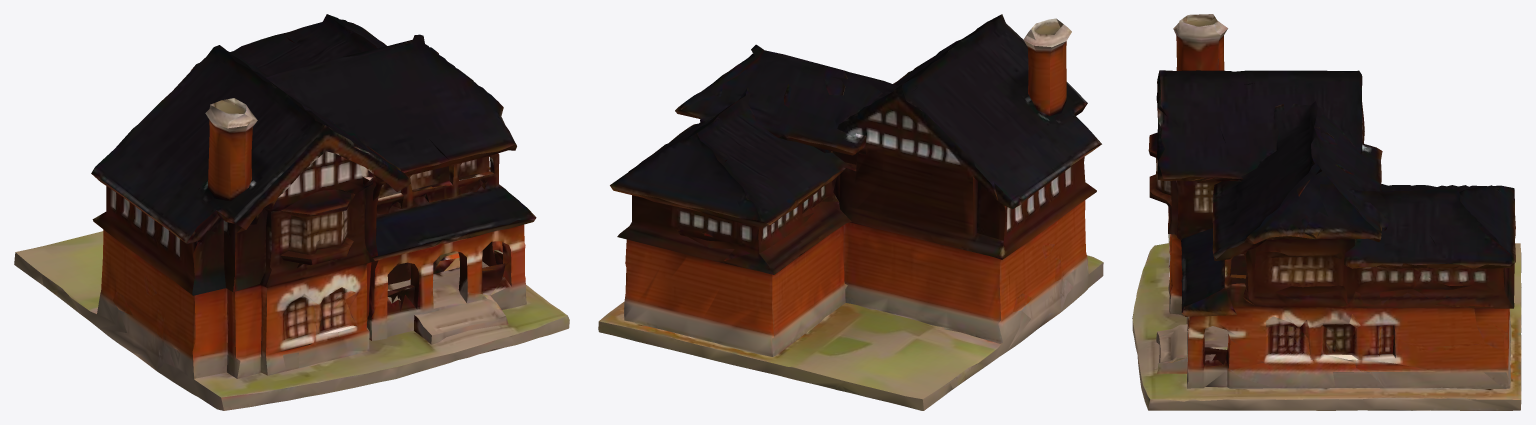
Rendered from beitou-hot-spring-museum.glb.
3 renders of one model, left to right at view 1: azimuth 30°, elevation 25°; view 2: azimuth 150°, elevation 25°; view 3: azimuth 270°, elevation 25°, orthographic. The views are drawn at different scales.
Parts seen in each view (by area): view 1: logan-textured.obj; view 2: logan-textured.obj; view 3: logan-textured.obj.
Boxes of the visible parts, x1,y1,x2,y2 form: logan-textured.obj: (14,14,569,410); logan-textured.obj: (598,14,1103,410); logan-textured.obj: (1132,14,1521,410).
Bounding box in the file's own units: 0.9849 × 0.7258 × 1.
1 material, 1 textured.
